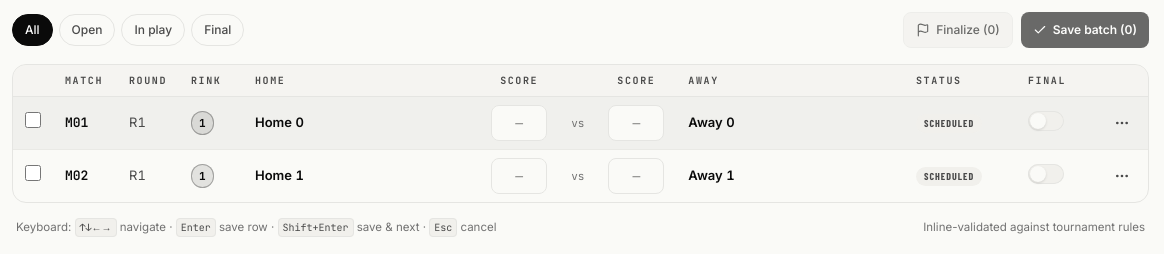
Test: <BulkScoringGrid /> — keyboard nav › Enter selects the active row for batch action
// Type a value so the patch buffer has something to commit.
Type "14" into the 1st field labelled "—" at (519, 123), box [491,105,547,141]
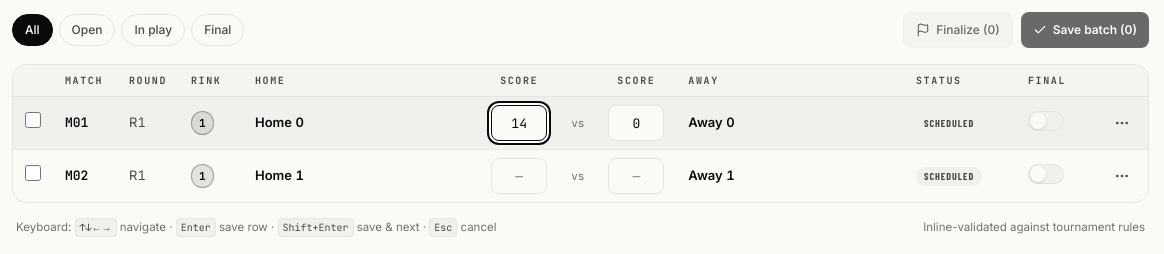
Press Enter
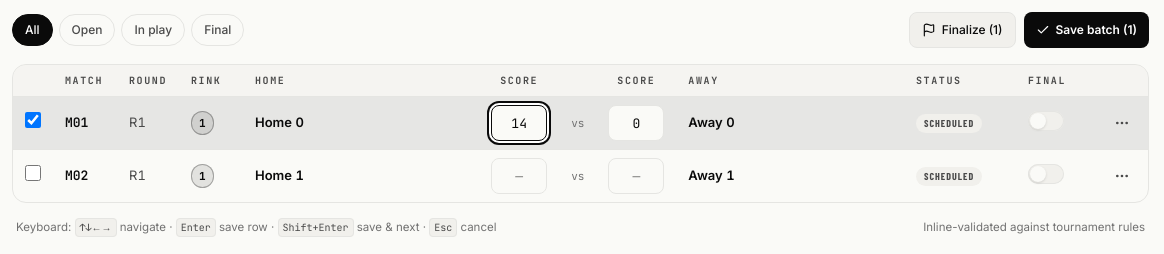
Expected: the button "Save batch (1)" is enabled, [1024,12,1149,48]
